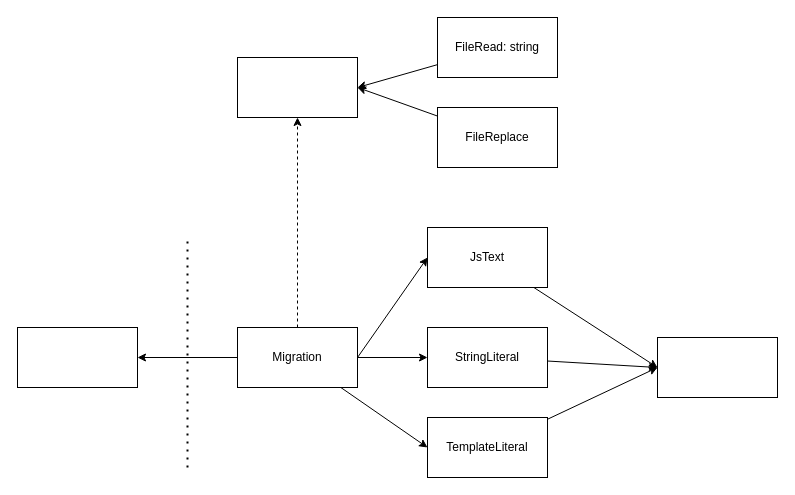
Some shapes in this 795 by 495 pixel diagram are drawn without their labels. Each missing label, with the box of its shape:
File: (236, 56, 358, 118)
forEach: (656, 336, 778, 398)
Test: (16, 326, 138, 388)
